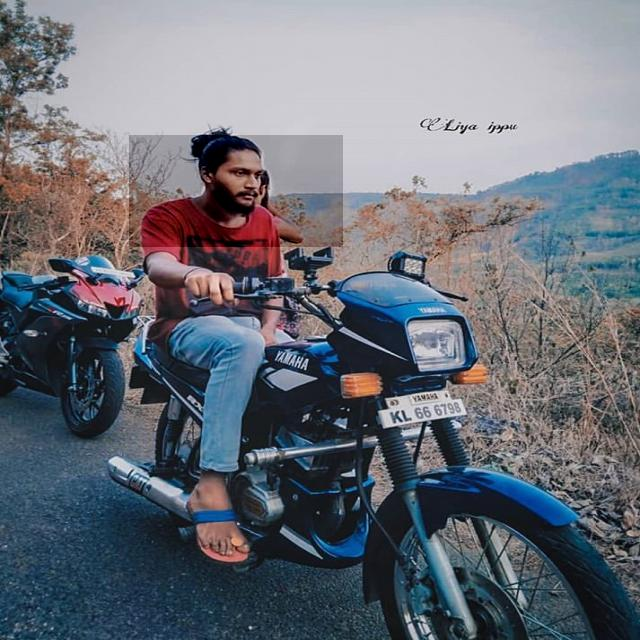No_Helmet: (129, 135, 343, 247)
